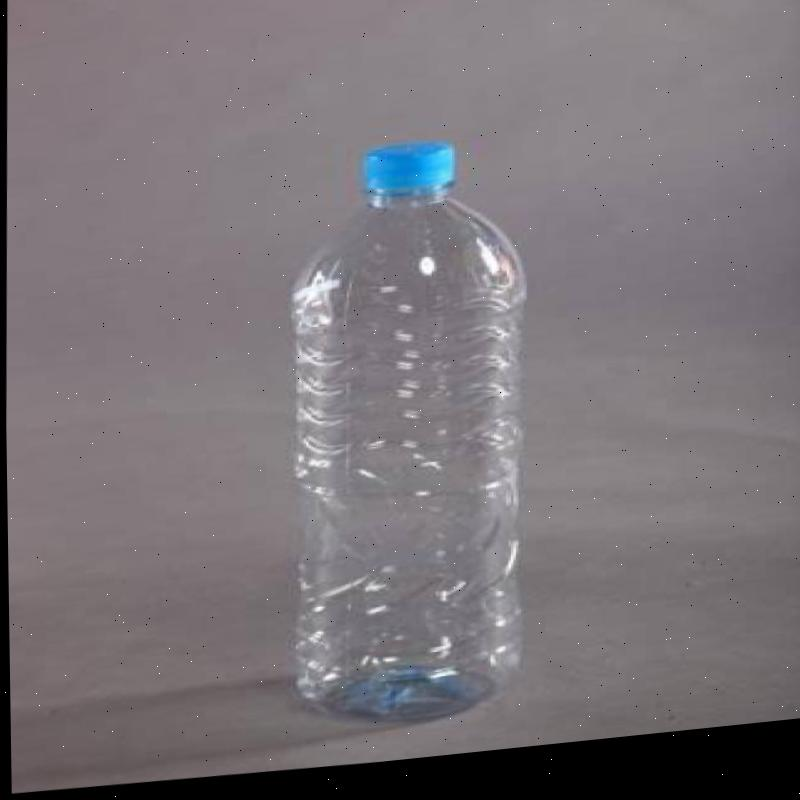botella: (261, 131, 549, 751)
